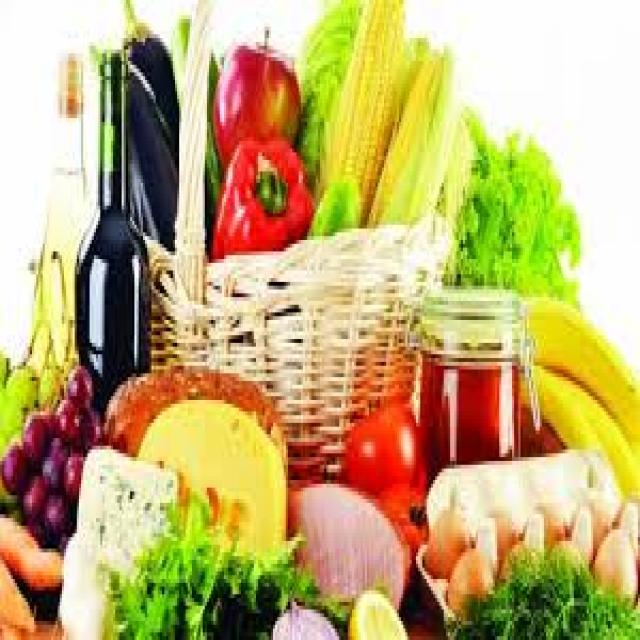organic waste: (100, 488, 344, 636), (433, 103, 578, 297), (134, 392, 286, 560), (100, 362, 286, 480), (316, 0, 403, 210), (87, 38, 175, 244), (358, 31, 454, 217), (525, 293, 638, 446), (288, 472, 412, 610), (444, 549, 638, 636), (518, 362, 638, 495), (211, 22, 299, 168), (209, 133, 307, 248), (294, 0, 356, 160), (342, 392, 424, 510), (420, 362, 512, 461), (177, 15, 218, 206), (124, 0, 179, 137), (0, 506, 62, 590), (591, 526, 634, 606), (439, 114, 472, 213), (420, 499, 465, 571), (346, 583, 405, 636), (0, 347, 34, 438), (267, 594, 337, 636), (376, 484, 424, 545), (446, 541, 488, 609), (310, 171, 358, 225), (0, 552, 32, 628), (499, 541, 531, 590), (520, 408, 557, 450), (43, 484, 70, 537), (21, 411, 45, 461), (66, 362, 90, 408), (2, 438, 21, 495), (38, 358, 58, 408), (40, 442, 60, 488), (53, 400, 75, 438), (62, 446, 79, 495), (22, 472, 40, 518), (79, 408, 100, 446), (40, 400, 56, 438)
